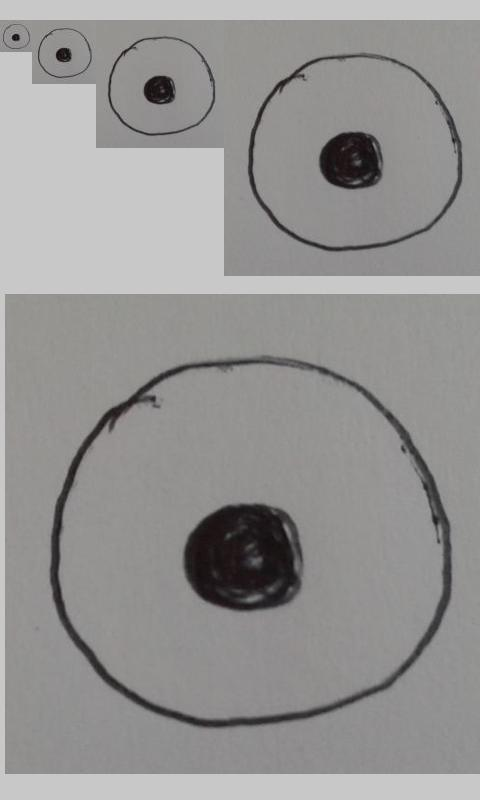radio_button: (46, 352, 455, 731), (247, 51, 466, 255), (107, 35, 217, 136), (37, 27, 93, 79), (2, 23, 31, 50)
